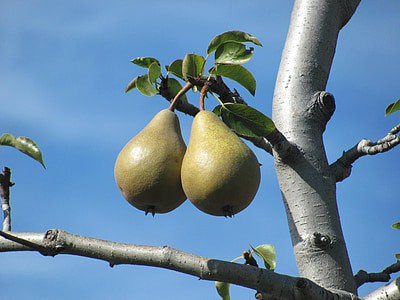pear: (181, 110, 261, 216), (114, 108, 190, 213)
